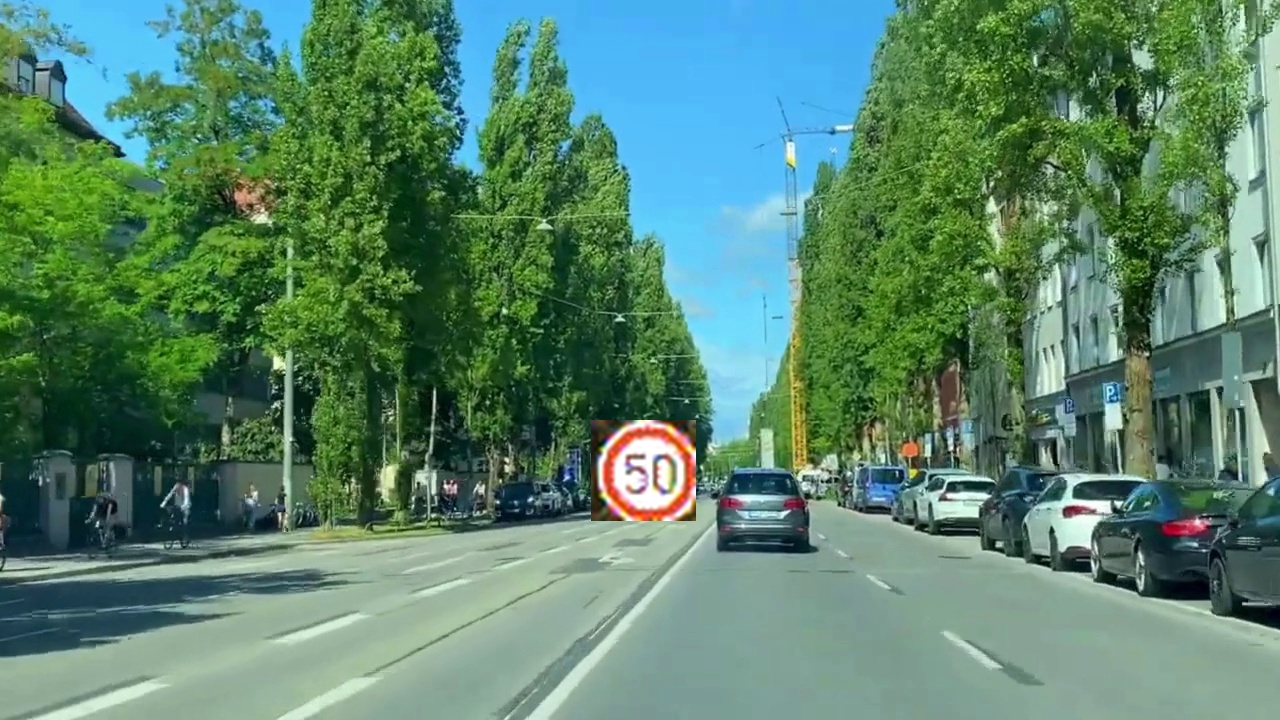Speed 50: (591, 420, 696, 521)
